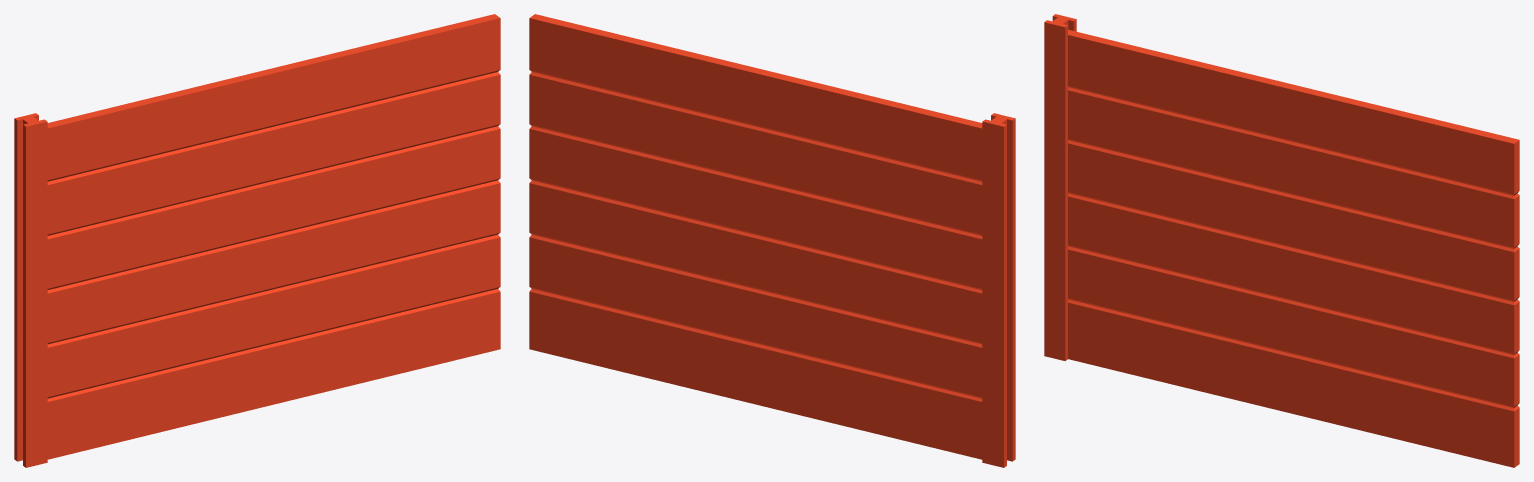
Rendered from SM_Fence_Industrial_3m_City.fbx.
3 views of the same model, side by side, from view 1: azimuth 30°, elevation 25°; view 2: azimuth 150°, elevation 25°; view 3: azimuth 330°, elevation 25° (orthographic). The views are drawn at different scales.
Visible parts, largest first — view 1: SM_Fence_Industrial_3m_City; view 2: SM_Fence_Industrial_3m_City; view 3: SM_Fence_Industrial_3m_City.
Part boxes in pixels (x1,y1,x2,y2): SM_Fence_Industrial_3m_City: (14, 14, 500, 467); SM_Fence_Industrial_3m_City: (529, 14, 1015, 467); SM_Fence_Industrial_3m_City: (1044, 14, 1519, 467).
Bounding box in the file's own units: 3.07 × 2.1 × 0.1284.
